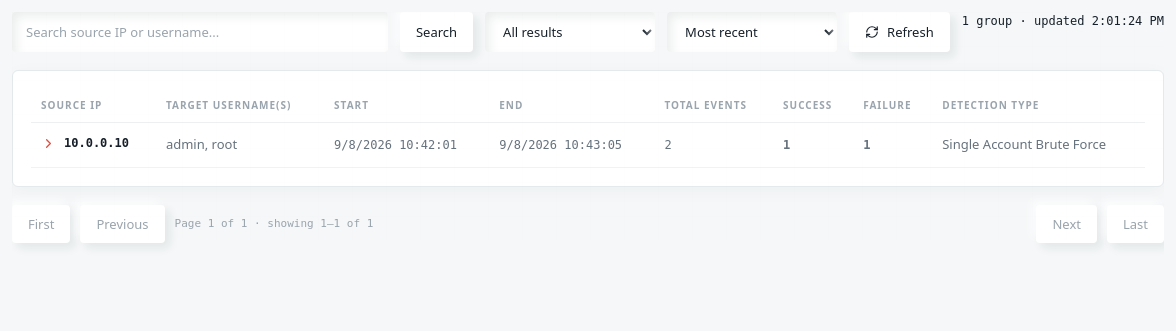
Test: Events page (server-side grouped events) › keeps stale groups visible with a warning when a refresh fails
The image size is (1176, 331).
Check: the text "10.0.0.10" is shown, box [64,134,129,152]
Click the button "Refresh" at (899, 32), box [849,12,950,52]
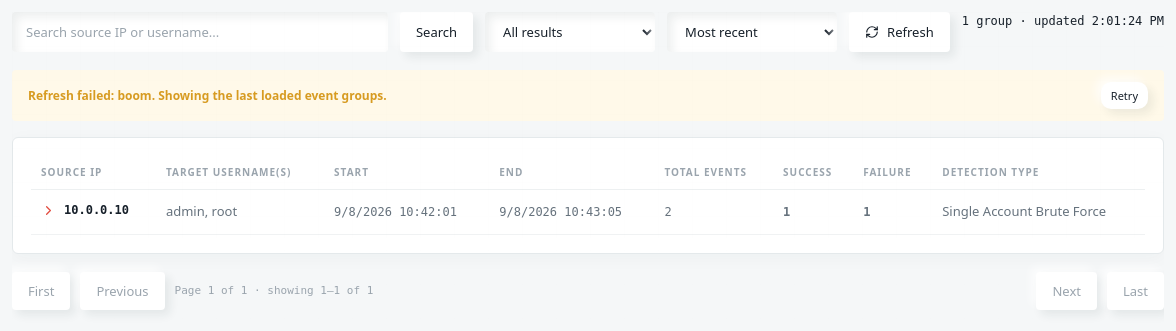
Check: the text "10.0.0.10" is shown, box [64,201,129,219]
Check: the text "Refresh failed: boom. Showing the last loaded event groups." is shown, box [28,86,387,104]
